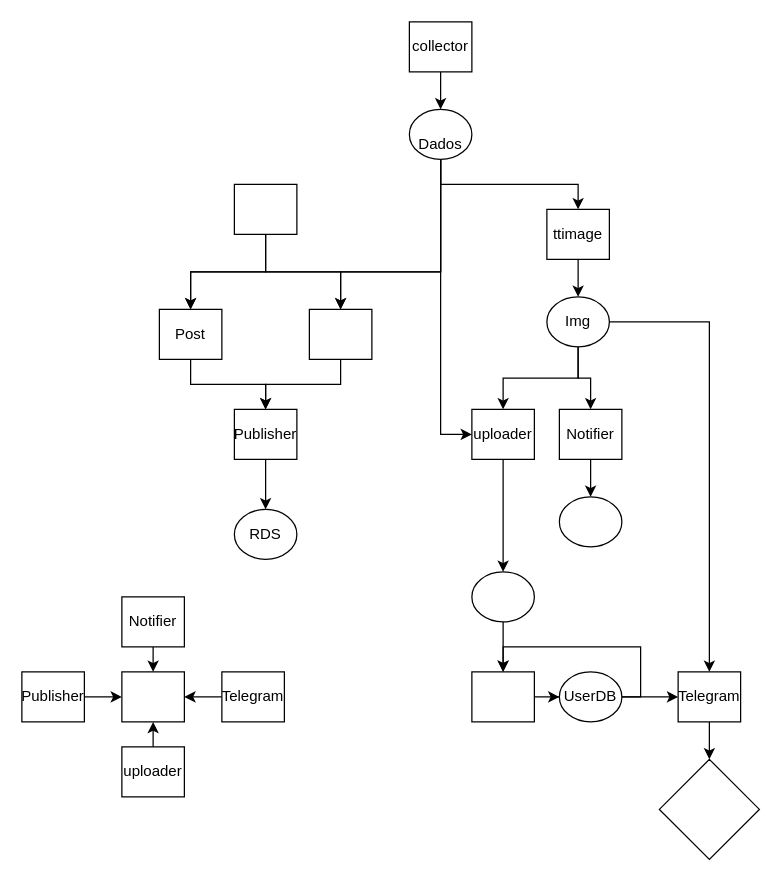
Some shapes in this 781 by 881 pixel diagram are drawn without their labels. The centre of each missing label's shape, as x and y in pixels:
"Bot" belongs at (502,696).
"Daily MSG" belongs at (708,808).
"Email" belongs at (590,521).
"engines" belongs at (265,208).
"S3" belongs at (502,596).
"SendAid" belongs at (152,696).
"SQL" belongs at (340,333).
